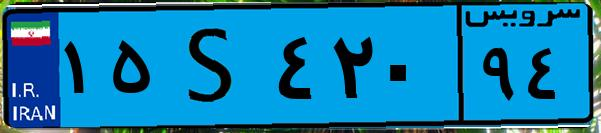0: (385, 28, 445, 110)
1: (57, 26, 110, 100)
2: (330, 28, 385, 110)
4: (270, 28, 330, 110), (525, 38, 570, 115)
5: (110, 28, 158, 98)
9: (475, 38, 525, 113)
S: (158, 12, 270, 120)
